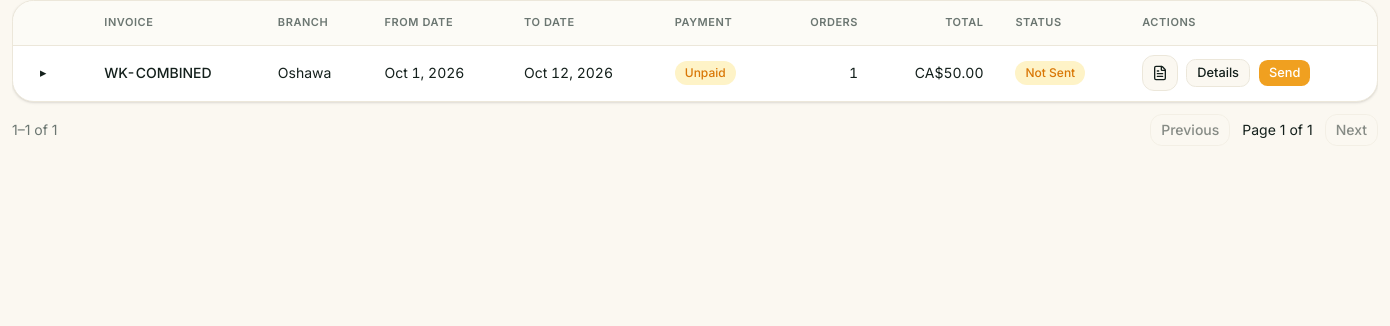
combined invoice expands without making a separate details request
The width and height of the screenshot is (1390, 326).
Click the button named "Show orders": {"x": 43, "y": 73} [29,59,57,87]
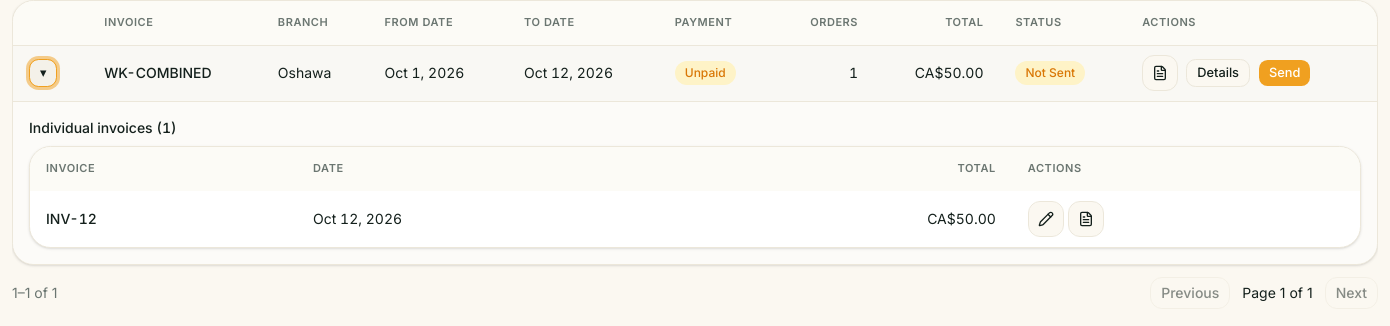
Result: the text "INV-12" is shown at [46,210,97,226]
Result: the text "Individual invoices (1)" is shown at [29,118,176,136]
